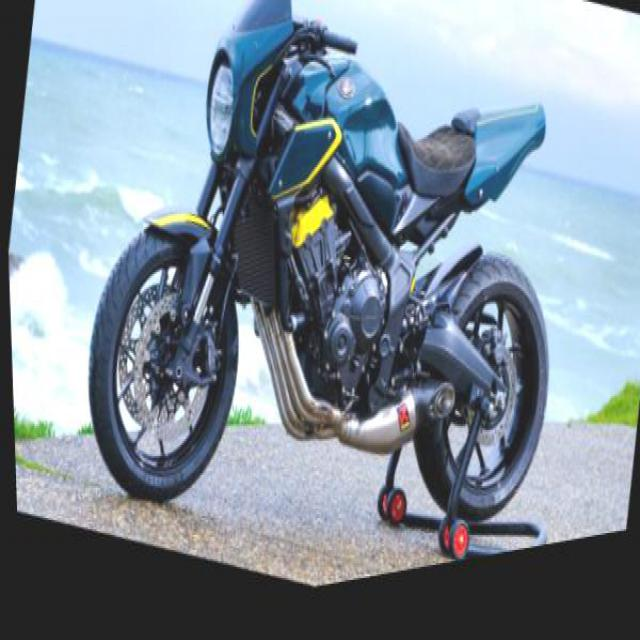CB650R: (56, 0, 602, 631)
